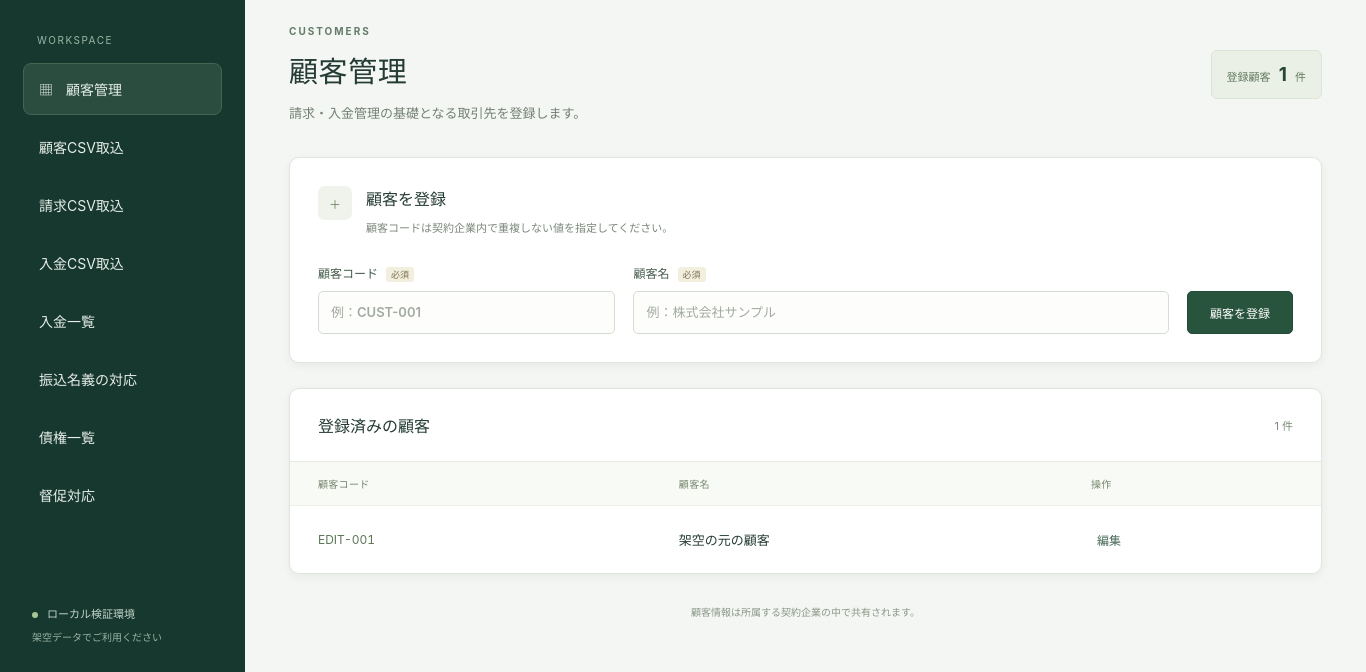
Scenario: Versioned customer editing › preserves the draft after a conflict and requires current-value review before a version1 retry
This screenshot has width=1366, height=672.
Click the button with aria-label "顧客 EDIT-001 を編集": [1109, 539] box top-left (1091, 525), bottom-right (1127, 554)
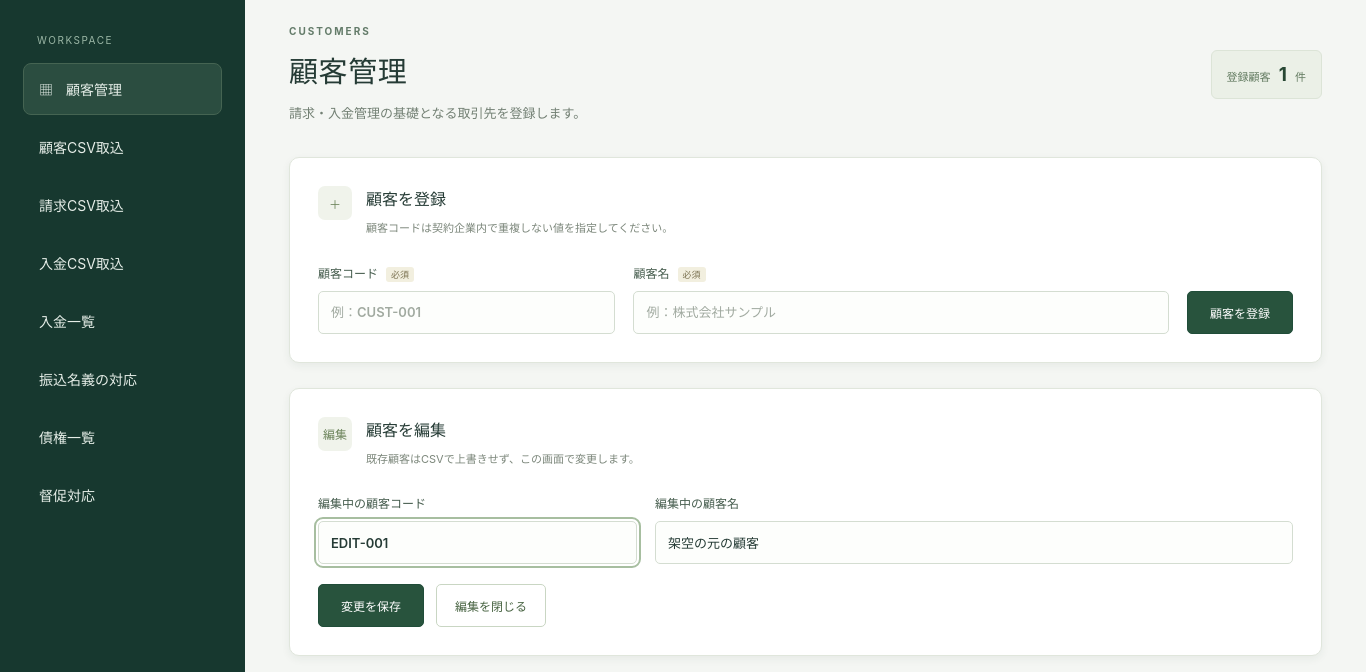
Replace the text in the field labelled "編集中の顧客名" with "自分が入力した名称": [974, 543] box top-left (655, 522), bottom-right (1293, 564)
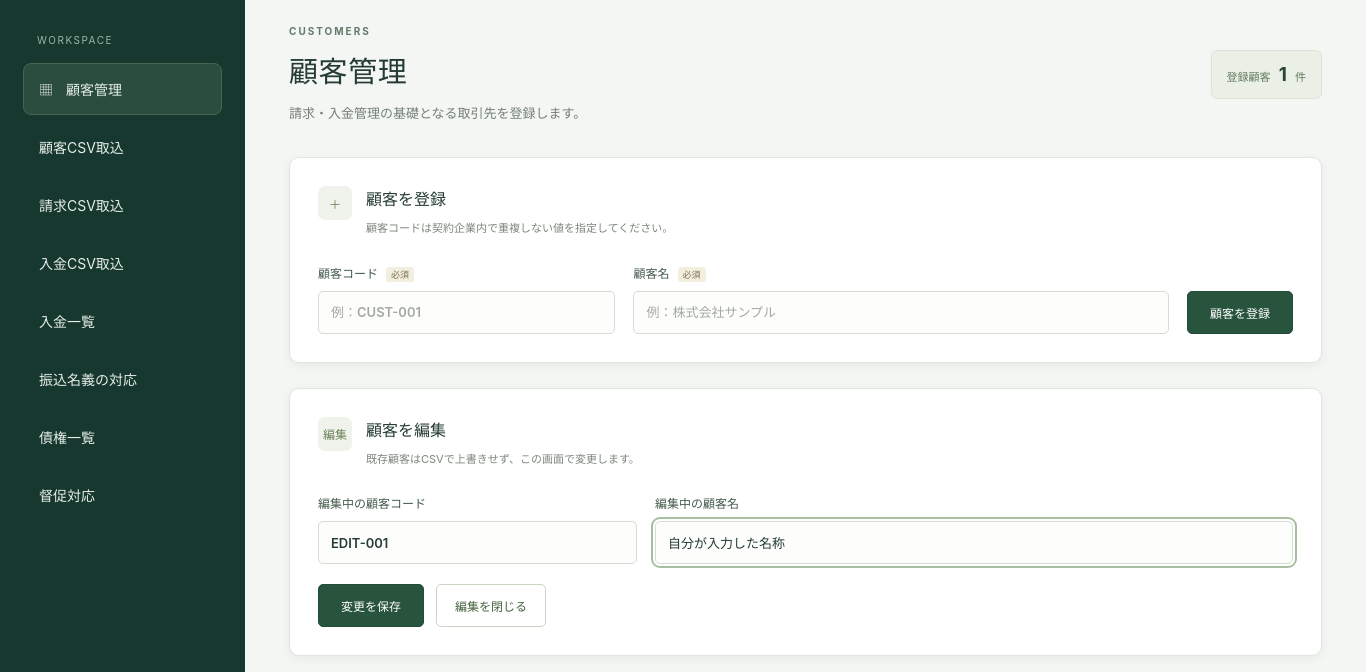
Click the button "変更を保存": [371, 606] box top-left (318, 584), bottom-right (424, 628)
(page scrolled)
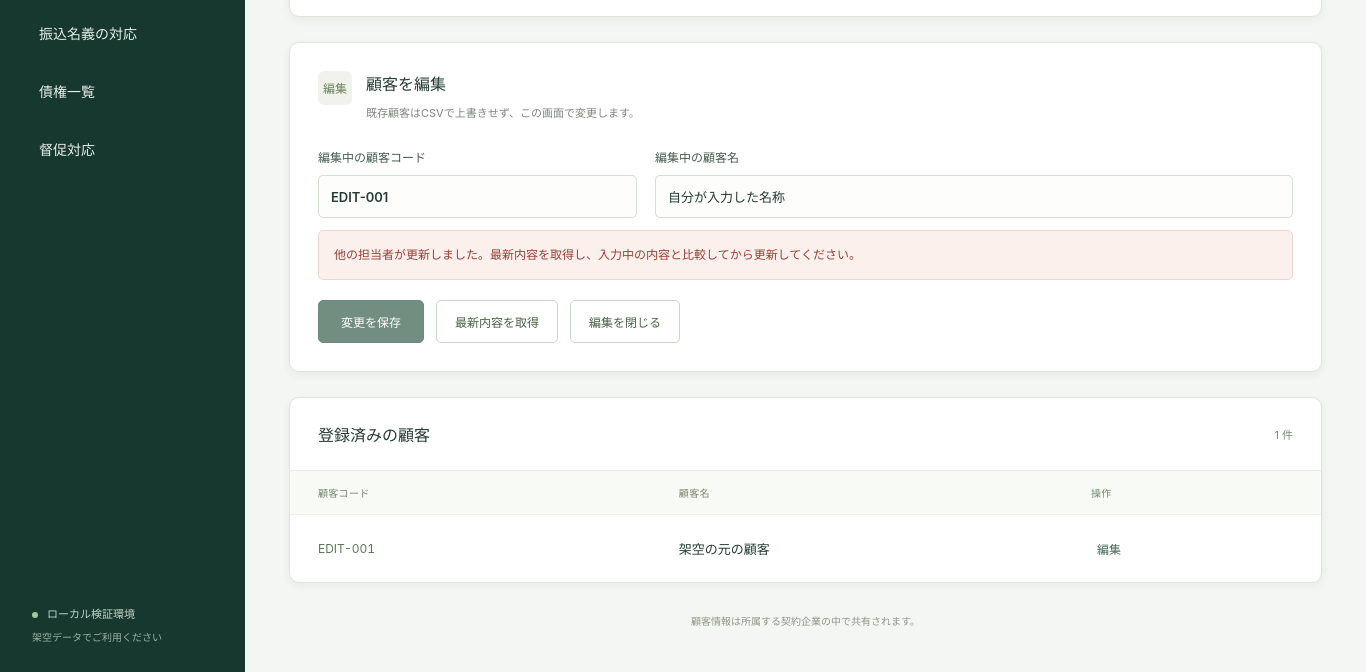
Result: the message shows "他の担当者が更新しました" at top-left (334, 248), bottom-right (861, 262)
Result: the button "変更を保存" is disabled at top-left (318, 300), bottom-right (424, 343)
Click the button "最新内容を取得": [497, 322] box top-left (436, 300), bottom-right (558, 343)
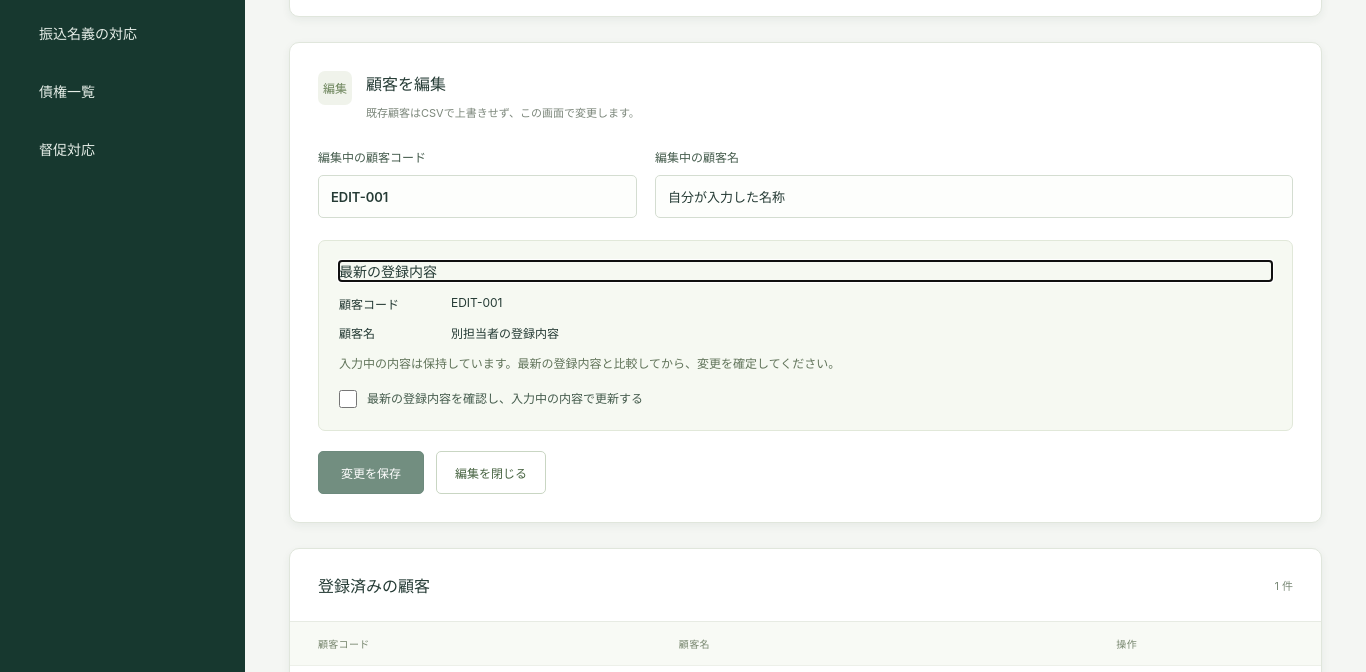
Result: the button "変更を保存" is disabled at top-left (318, 451), bottom-right (424, 494)
Click the checkbox labelled "最新の登録内容を確認し、入力中の内容で更新する": [348, 399] box top-left (339, 390), bottom-right (357, 408)
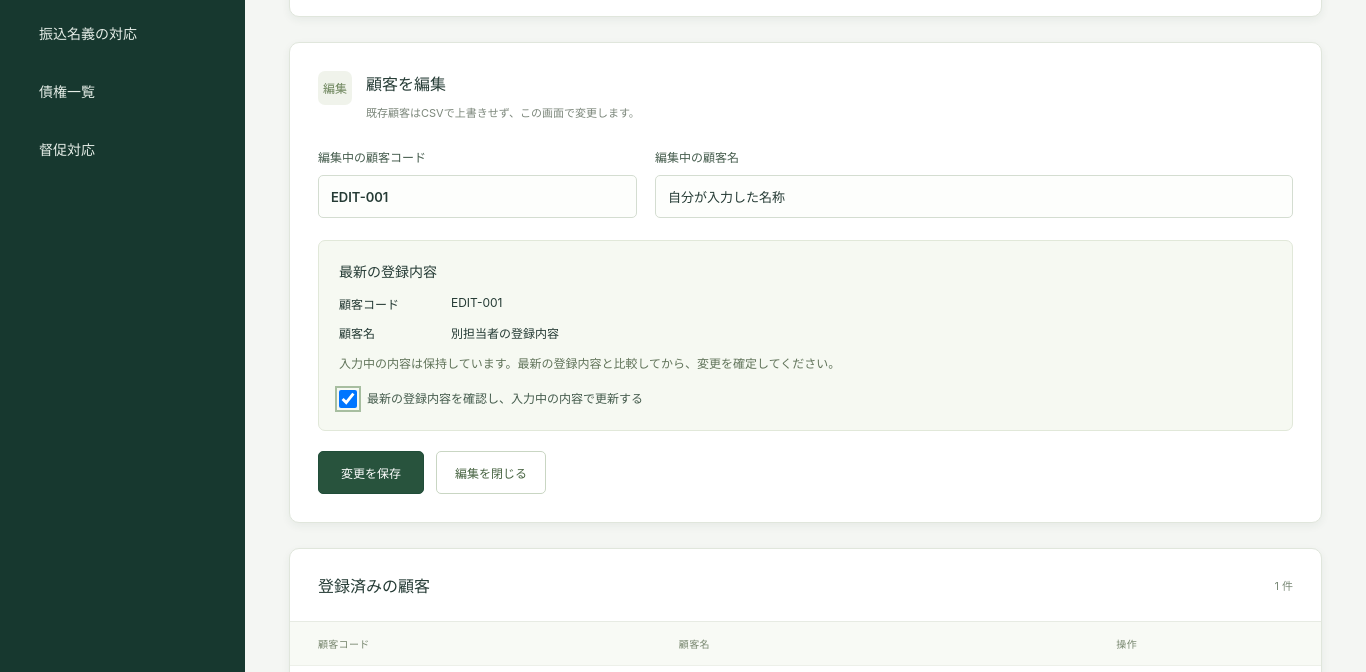
Click the button "変更を保存": [371, 472] box top-left (318, 451), bottom-right (424, 494)
(page scrolled)
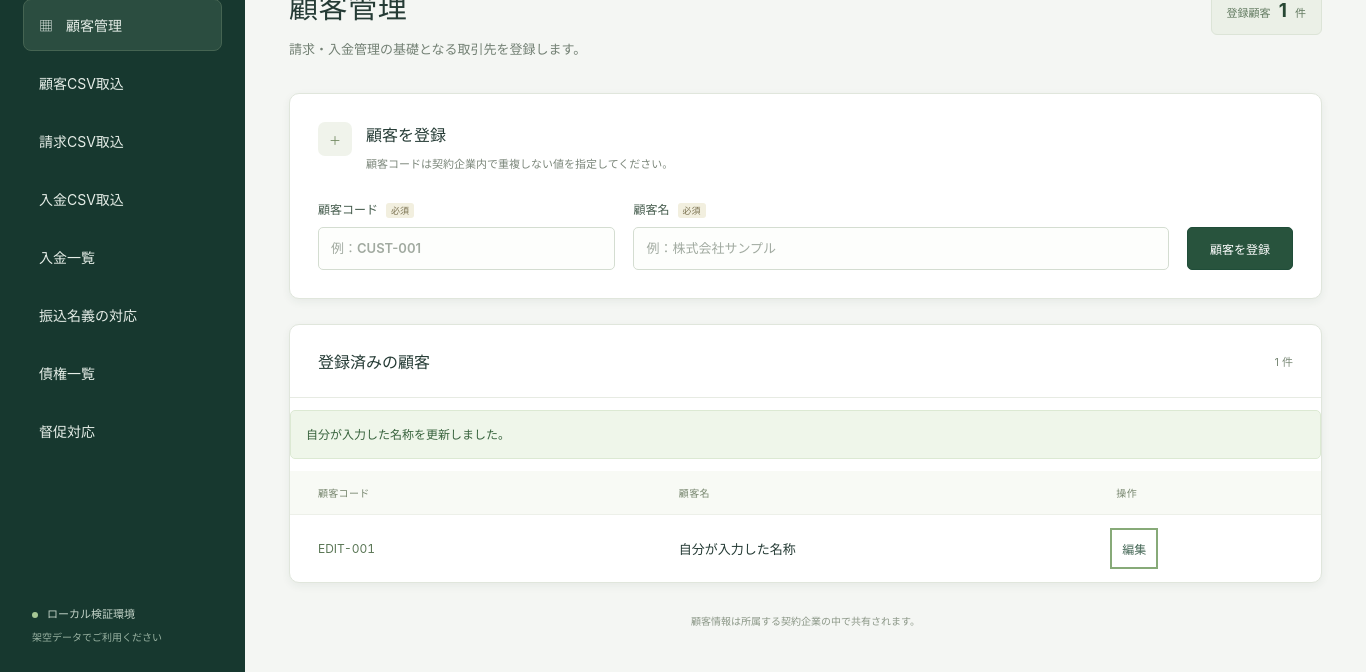
Result: the message shows "自分が入力した名称を更新しました" at top-left (306, 427), bottom-right (510, 442)
